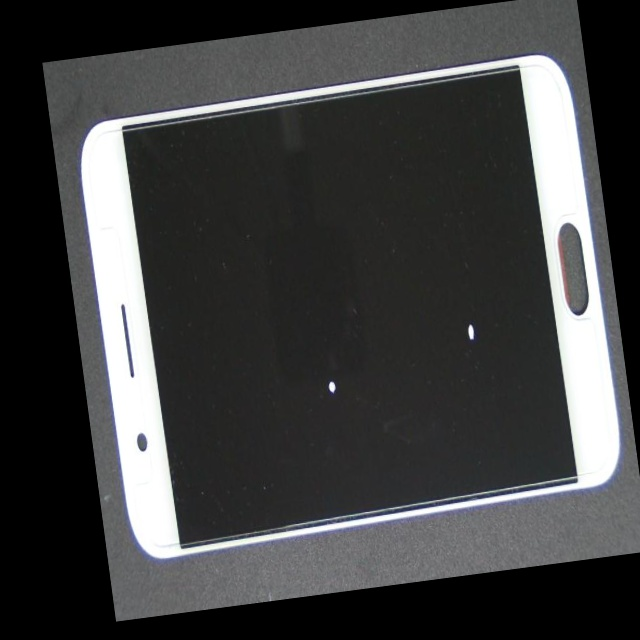stain: (285, 198, 640, 543), (201, 128, 468, 531)
